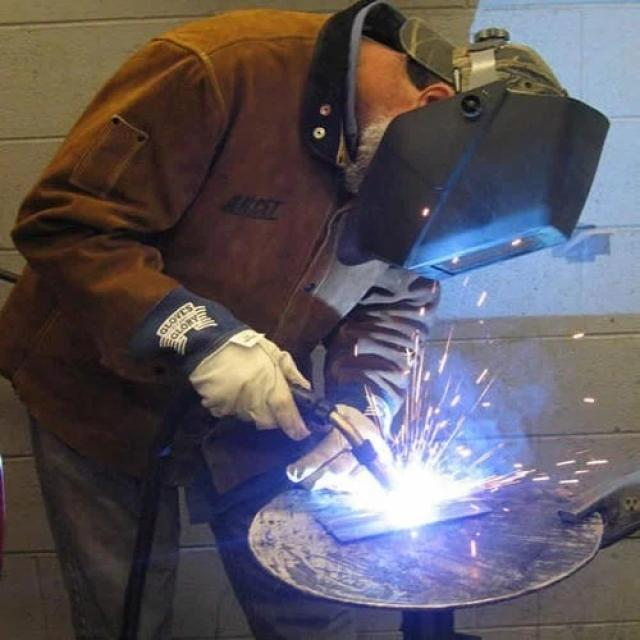welding: (360, 471, 467, 519)
